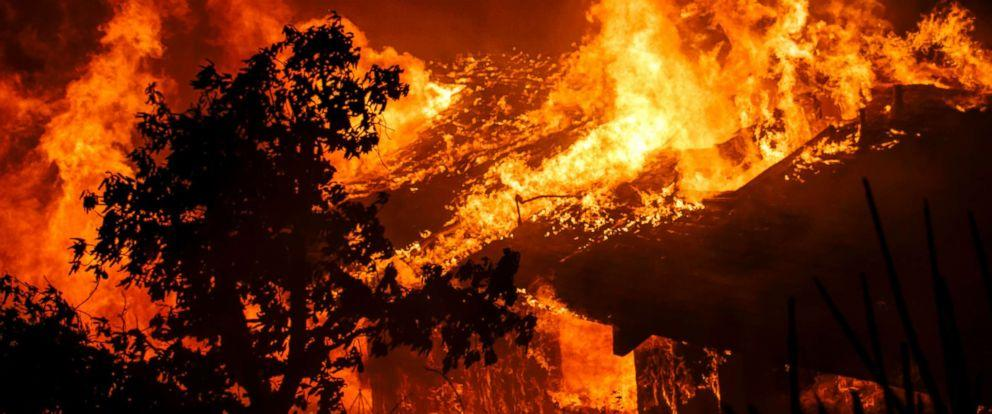Fire: (15, 10, 992, 414)
